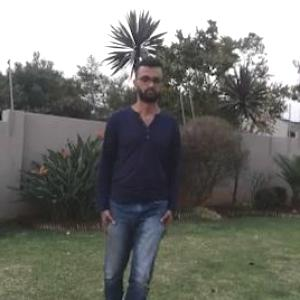follow: (99, 39, 174, 299)
